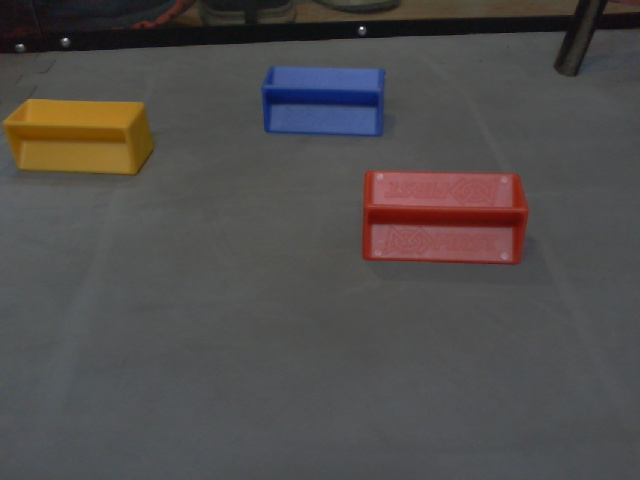BlueSample: (258, 62, 386, 141)
RedSample: (358, 168, 530, 267)
YellowSample: (2, 96, 155, 177)
